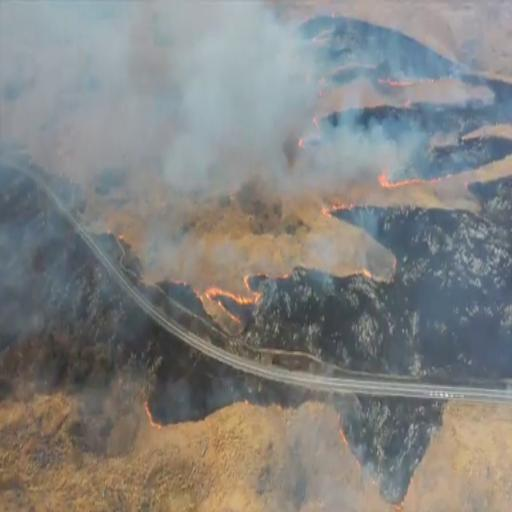fire: (114, 13, 453, 332), (338, 413, 364, 468), (147, 403, 164, 431), (246, 400, 283, 412), (393, 496, 408, 512)
smoke: (166, 28, 420, 204), (0, 190, 75, 327)
